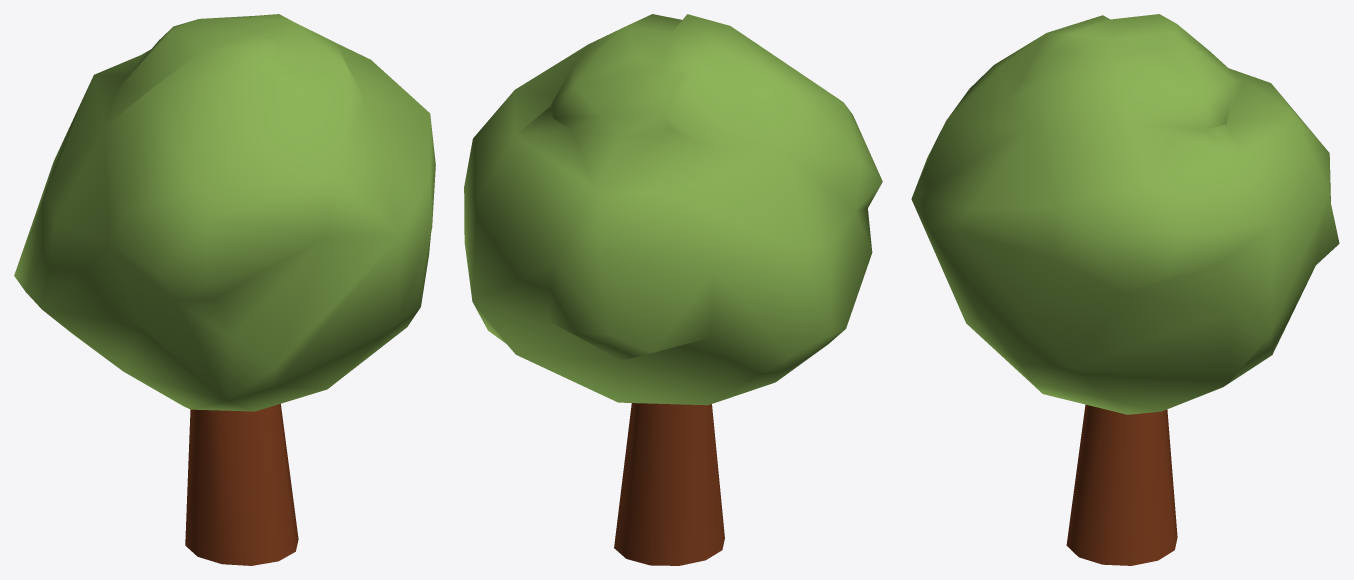
File: Decor@TreeLowPoly.fbx
3 renders of one model, left to right at view 1: azimuth 30°, elevation 25°; view 2: azimuth 150°, elevation 25°; view 3: azimuth 270°, elevation 25°, orthographic.
Parts seen in each view (by area): view 1: stylized_trees01; view 2: stylized_trees01; view 3: stylized_trees01.
Part boxes in pixels (x1,y1,x2,y2): stylized_trees01: (14, 14, 435, 565); stylized_trees01: (464, 14, 882, 565); stylized_trees01: (911, 14, 1339, 565).
Size of the model in its own units: 93.04 by 125 by 94.6.
